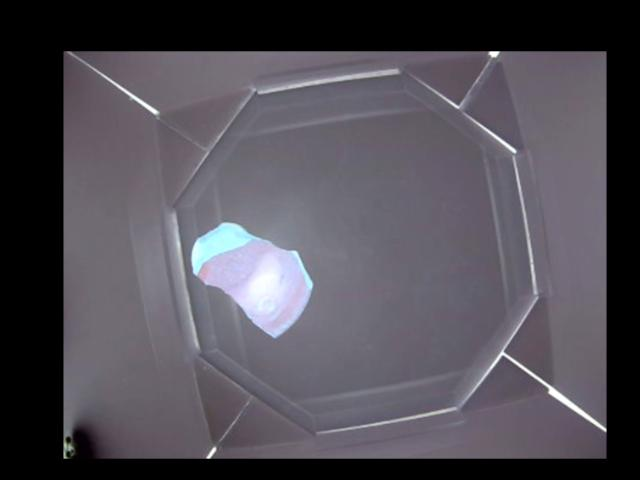China: (190, 219, 310, 339)
